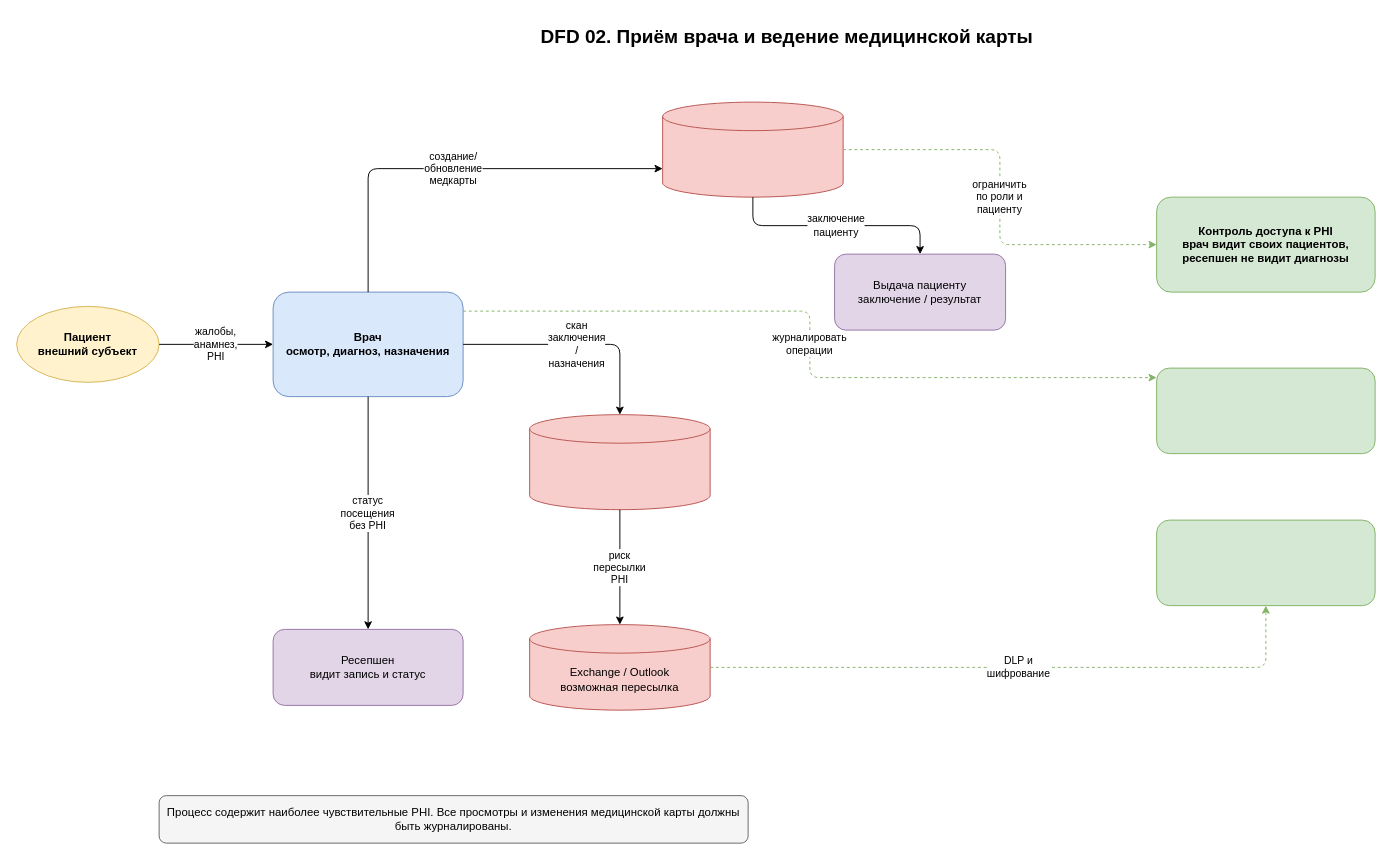
Some shapes in this 1392 by 860 pixel diagram are drawn without their labels. The centre of each missing label's shape, as x and y in pixels:
"Аудит и целостность кто смотрел, менял, печатал, выгружал" goes at (x=1265, y=410).
"Защита PHI шифрование, DLP, запрет сырых PHI в аналитике" goes at (x=1265, y=562).
"Медицинская карта PHI, PII, RAW" goes at (x=752, y=149).
"Сканы JPG/PDF заключения, назначения" goes at (x=619, y=462).
